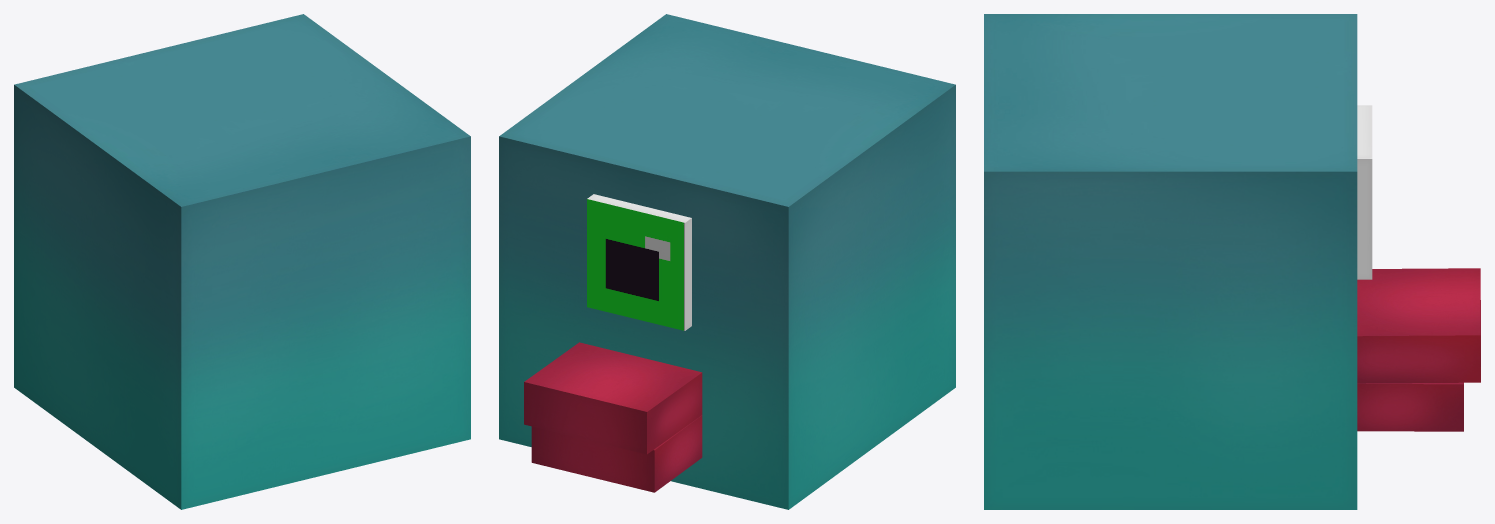
The model's file is Unit01.FBX.
The picture shows the model from 3 angles, left to right: view 1: azimuth 30°, elevation 25°; view 2: azimuth 150°, elevation 25°; view 3: azimuth 270°, elevation 25°; orthographic projection. The views are drawn at different scales.
Parts seen in each view (by area): view 1: 01_Unit_Body; view 2: 01_Unit_Body, 01_Unit_mouth01, 01_Unit_eye, 01_Unit_mouth02; view 3: 01_Unit_Body, 01_Unit_mouth01, 01_Unit_mouth02, 01_Unit_eye.
Boxes of the visible parts, x1,y1,x2,y2 form: 01_Unit_Body: (14,14,470,509); 01_Unit_Body: (499,14,955,509); 01_Unit_mouth01: (524,342,702,454); 01_Unit_eye: (587,194,691,330); 01_Unit_mouth02: (531,415,702,492); 01_Unit_Body: (984,14,1357,509); 01_Unit_mouth01: (1357,268,1480,383); 01_Unit_mouth02: (1357,382,1463,431); 01_Unit_eye: (1357,105,1372,279).
Bounding box in the file's own units: 19.69 × 19.69 × 26.21.
